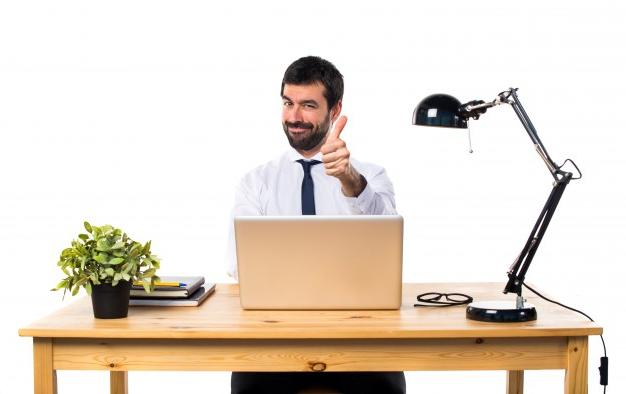thumbsup: (321, 115, 350, 175)
